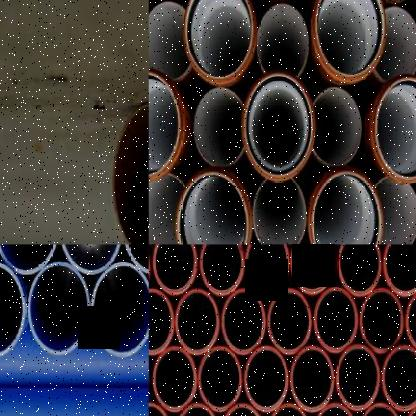pipe: (241, 70, 316, 182), (175, 166, 250, 244), (183, 0, 255, 81), (29, 262, 90, 355), (90, 261, 148, 358), (311, 168, 384, 244), (314, 0, 386, 76), (113, 102, 149, 244), (374, 75, 416, 180), (193, 87, 244, 168), (313, 86, 362, 166), (258, 3, 310, 77), (252, 179, 306, 244), (149, 1, 191, 83), (149, 69, 181, 176), (373, 7, 416, 82), (221, 288, 267, 356), (243, 346, 289, 413), (152, 345, 198, 412), (336, 344, 382, 411), (313, 288, 359, 354), (267, 289, 312, 355), (359, 287, 404, 353), (291, 346, 335, 413), (373, 176, 416, 244), (198, 346, 242, 412), (175, 289, 219, 355), (149, 172, 185, 244), (0, 260, 25, 357), (380, 344, 416, 411), (198, 245, 245, 296), (337, 244, 383, 296), (152, 244, 198, 296), (289, 245, 334, 296), (245, 245, 289, 296), (60, 244, 123, 274), (0, 244, 59, 274), (148, 287, 174, 355), (382, 244, 416, 296), (404, 287, 416, 353), (312, 401, 358, 416), (358, 402, 402, 416), (265, 403, 311, 416), (219, 403, 265, 416), (174, 403, 219, 416), (403, 402, 416, 415)
